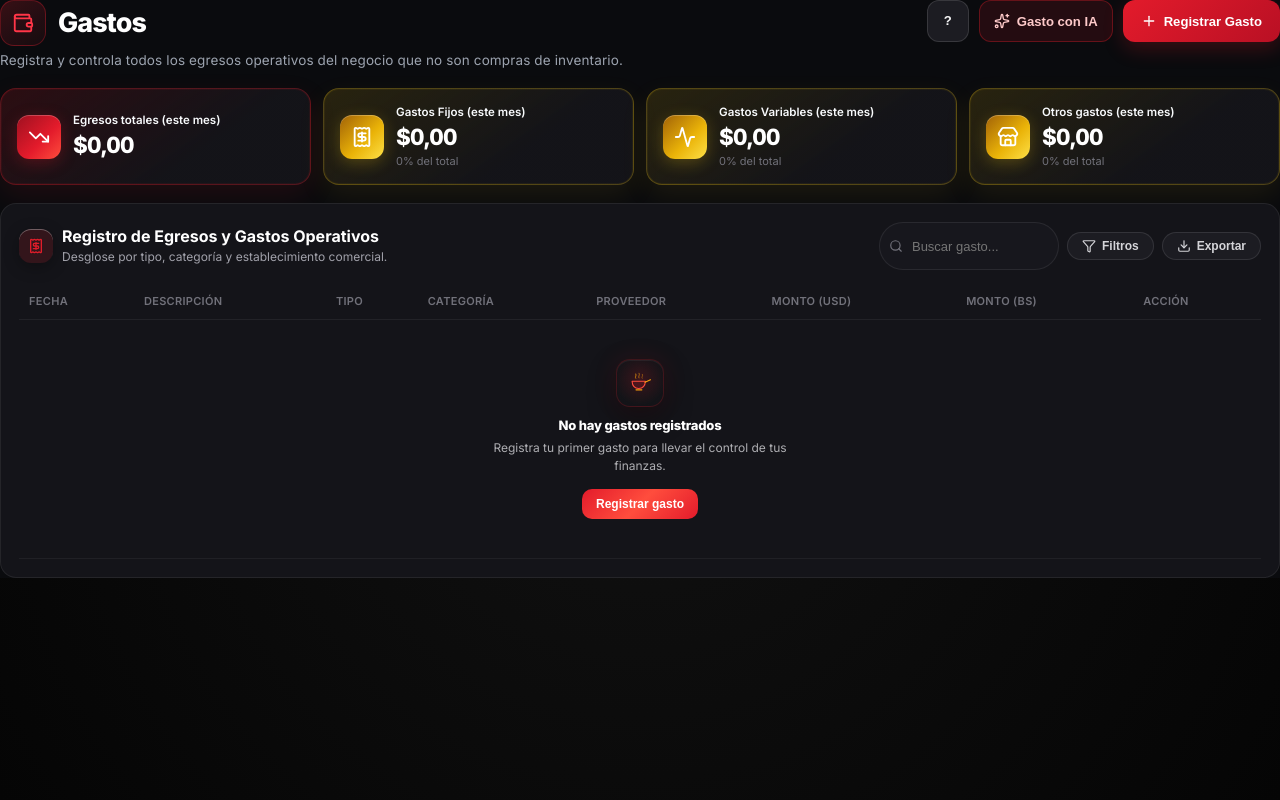
Test: Acciones de Gastos › cierra la ventana emergente con Escape
The width and height of the screenshot is (1280, 800).
expect the heading "No hay gastos registrados" is shown: met, box [558,417,722,433]
Step 1. Click the button "Registrar Gasto" → (1201, 21), box [1123,0,1279,42]
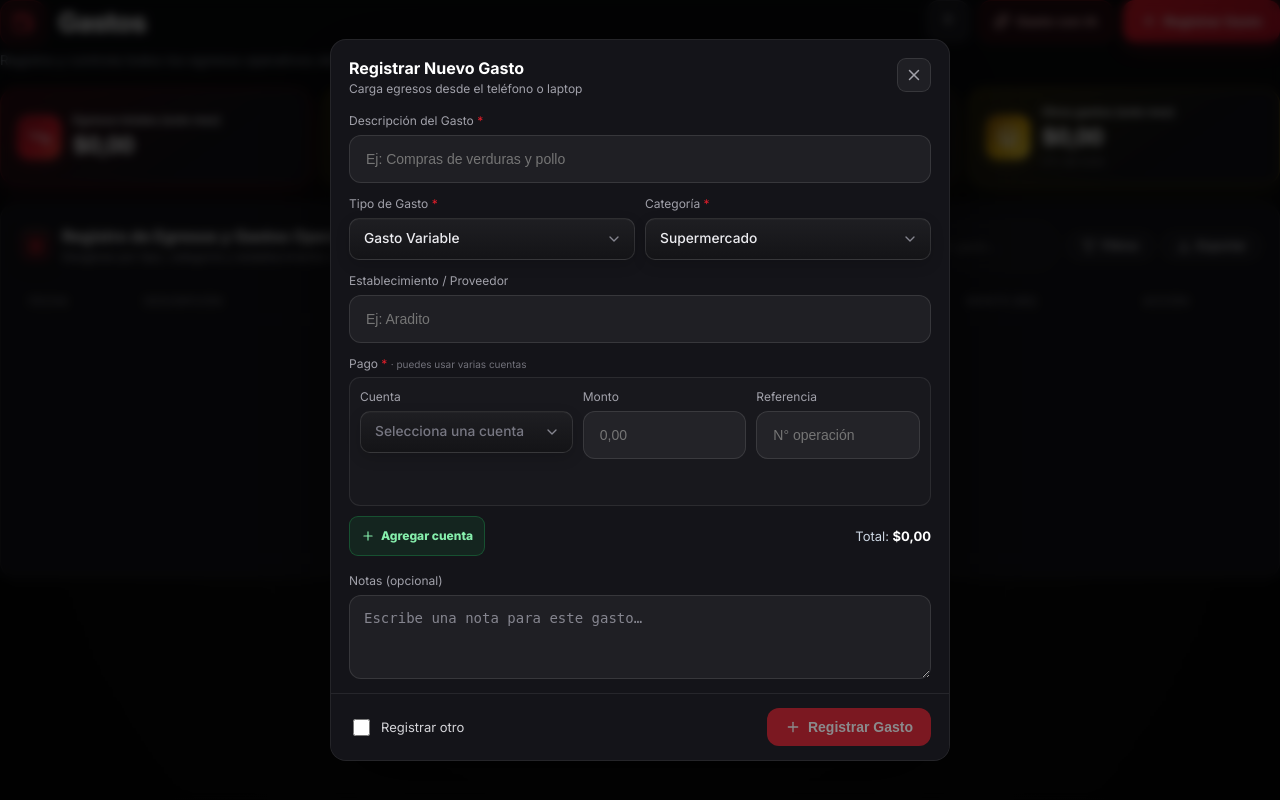
expect the dialog "Registrar Nuevo Gasto" is shown: met, box [330,39,950,761]
Step 2. Press Escape
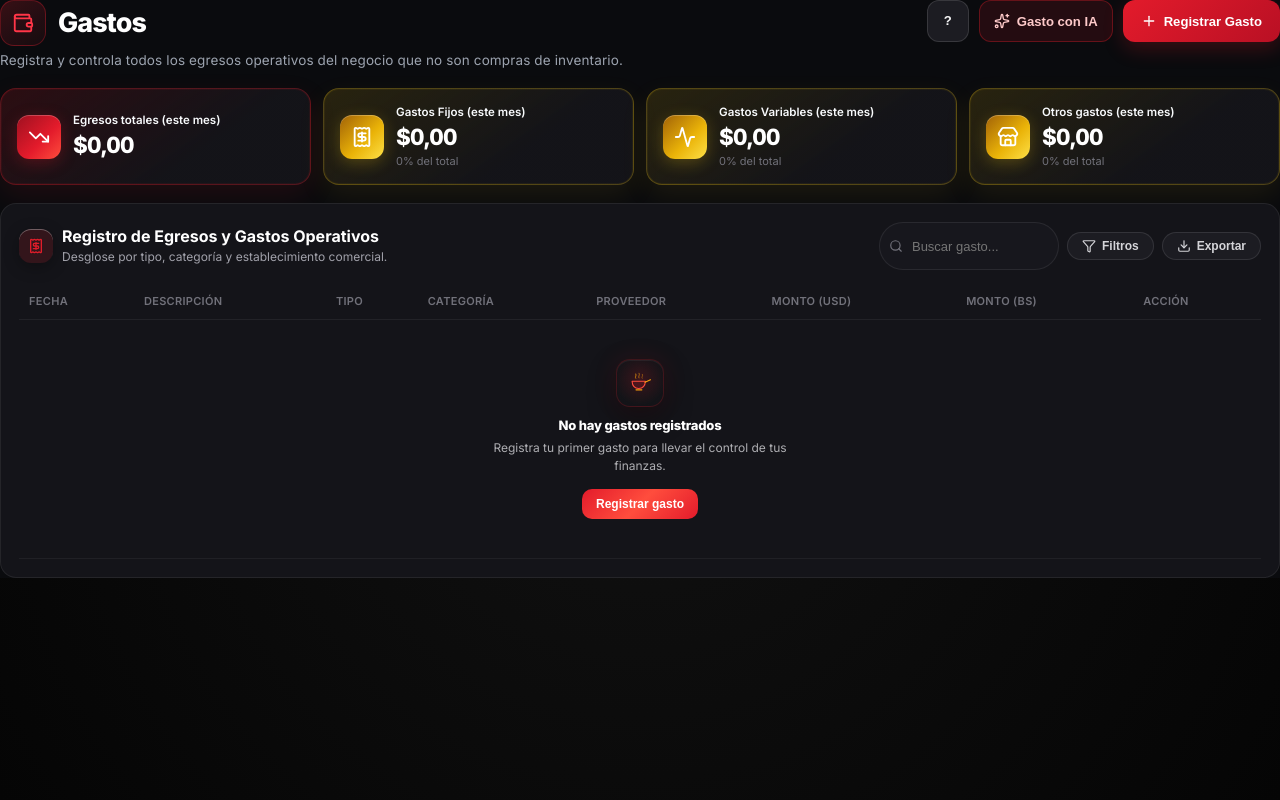
expect the heading "Registrar Nuevo Gasto" is gone: met
